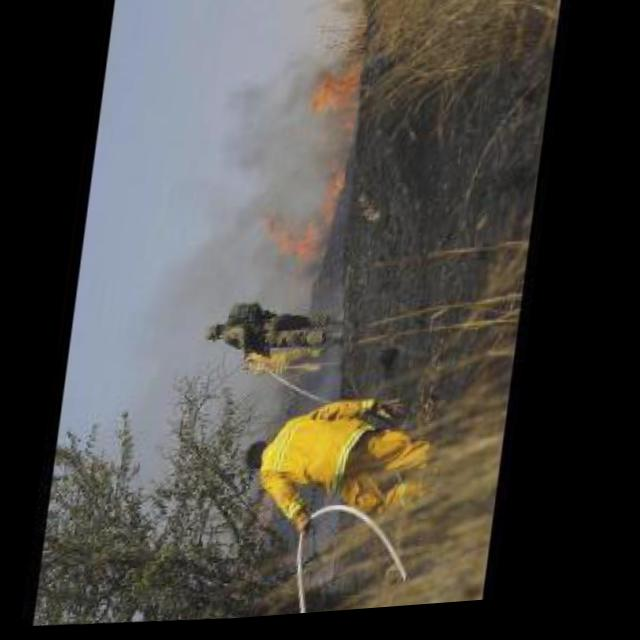Fire: (187, 65, 325, 320), (266, 168, 351, 276), (308, 45, 364, 147)
